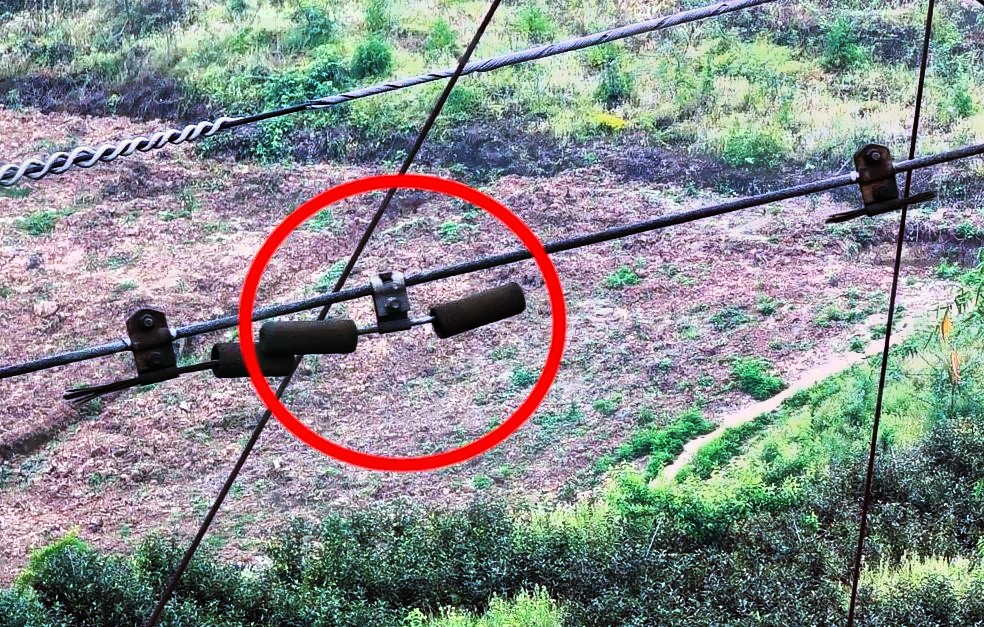Damage of shockproof hammer: (45, 285, 300, 423), (810, 134, 952, 231)
